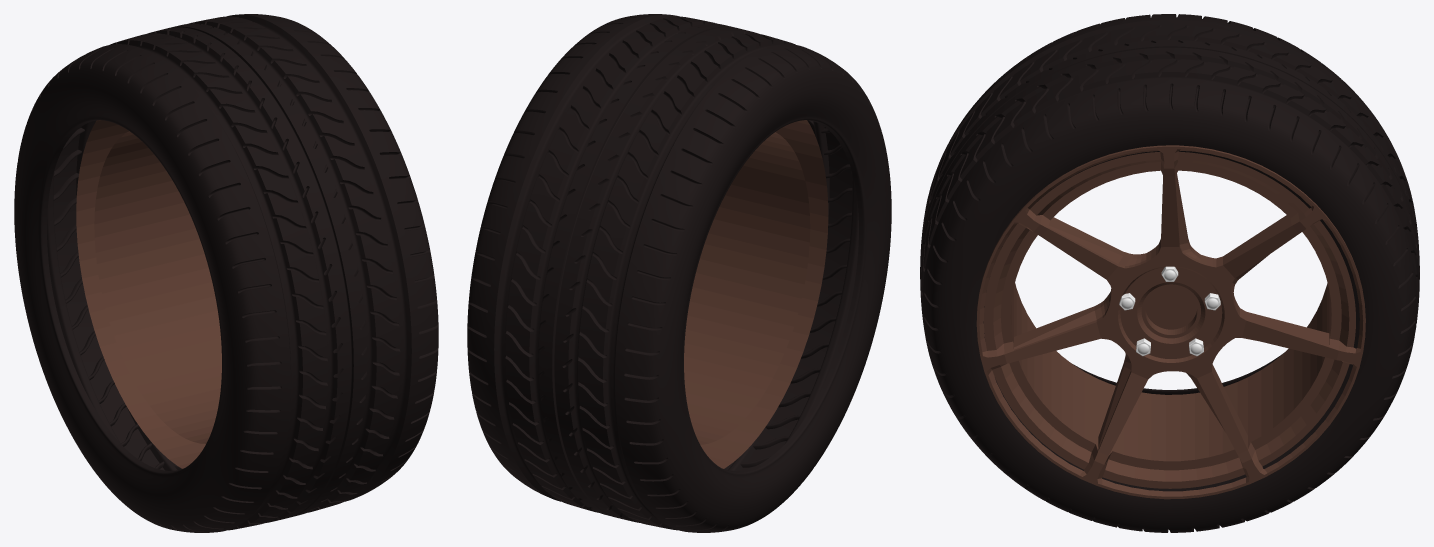
Rendered from wheel_tfr.gltf.
3 views of the same model, side by side, from view 1: azimuth 30°, elevation 25°; view 2: azimuth 150°, elevation 25°; view 3: azimuth 270°, elevation 25° (orthographic).
Parts seen in each view (by area): view 1: tires, wheels; view 2: tires, wheels; view 3: tires, wheels, lugnuts.
Part boxes in pixels (<box>): tires: <box>14,14,438,532</box>; wheels: <box>76,120,221,468</box>; tires: <box>467,14,891,532</box>; wheels: <box>684,120,828,468</box>; tires: <box>920,14,1419,532</box>; wheels: <box>976,145,1365,499</box>; lugnuts: <box>1119,266,1220,356</box>.
Size of the model in its own units: 0.2932 by 0.6329 by 0.633.
